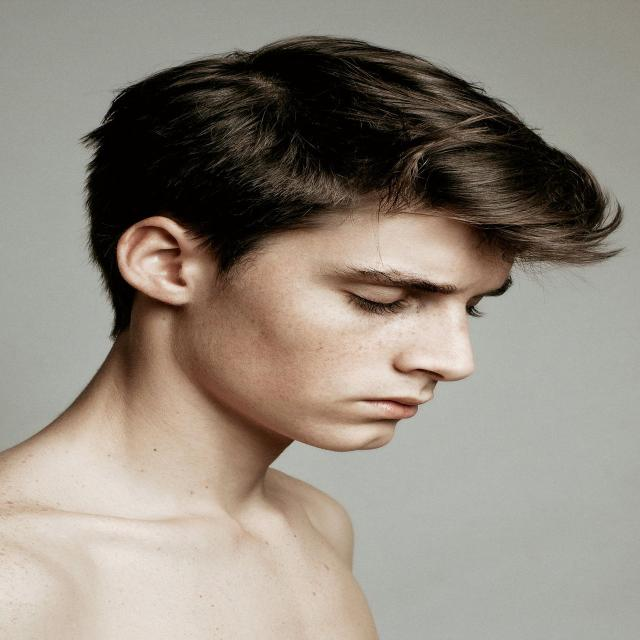front: (320, 260, 502, 440)
